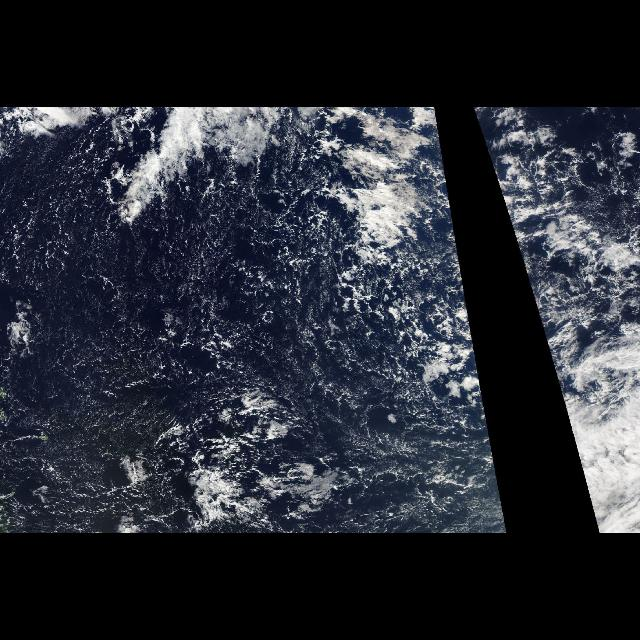Gravel: (0, 196, 472, 530)
